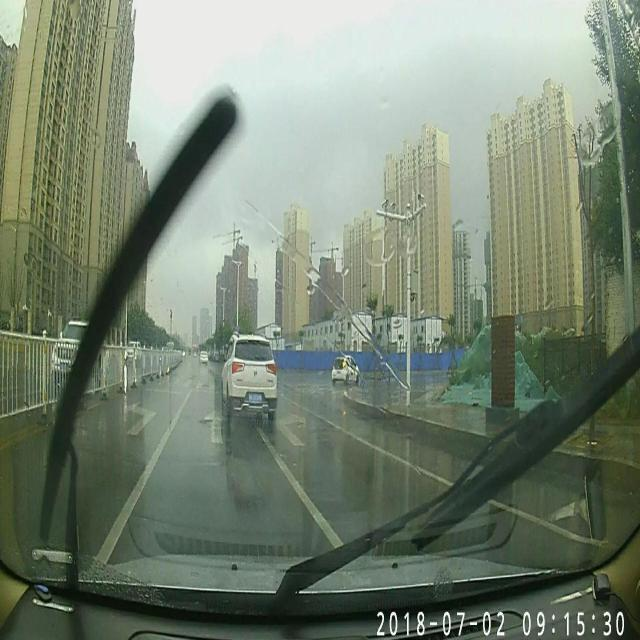car: (220, 331, 278, 423), (51, 316, 111, 386), (331, 353, 360, 386), (125, 342, 144, 364), (200, 350, 208, 364)
